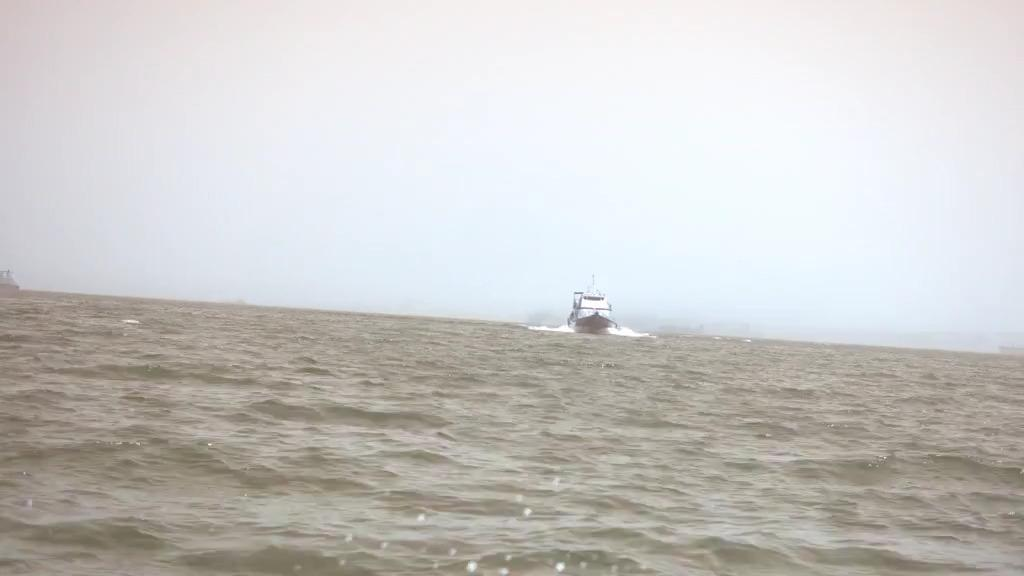PassengerShip: (564, 272, 622, 338)
